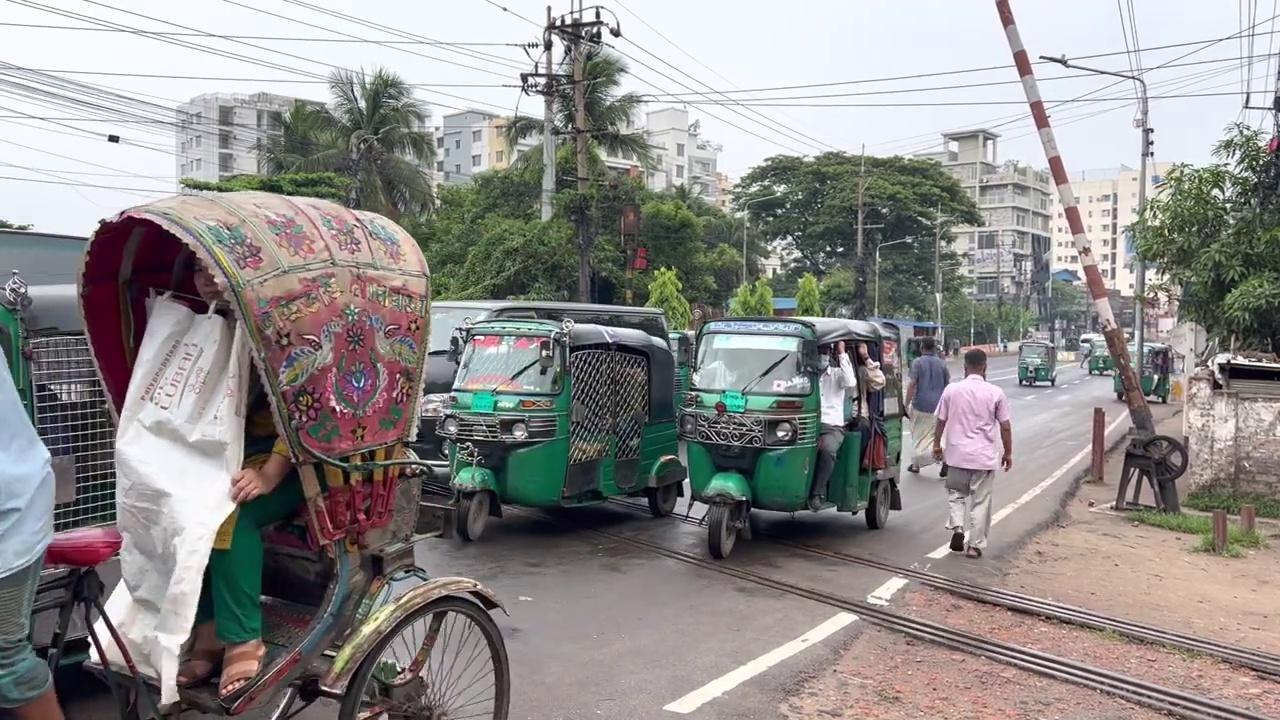Fence: (931, 347, 1012, 557), (807, 339, 857, 511), (903, 335, 950, 477), (854, 340, 887, 473)
Garbage: (994, 0, 1156, 436)
Motorcycle: (576, 506, 1277, 717)
Muddy road: (50, 189, 513, 719)
Railroad-crossing: (730, 147, 985, 320), (499, 42, 661, 303), (246, 63, 440, 225)
Rickshaw: (676, 313, 904, 559), (1112, 341, 1171, 404), (1087, 336, 1113, 375)
